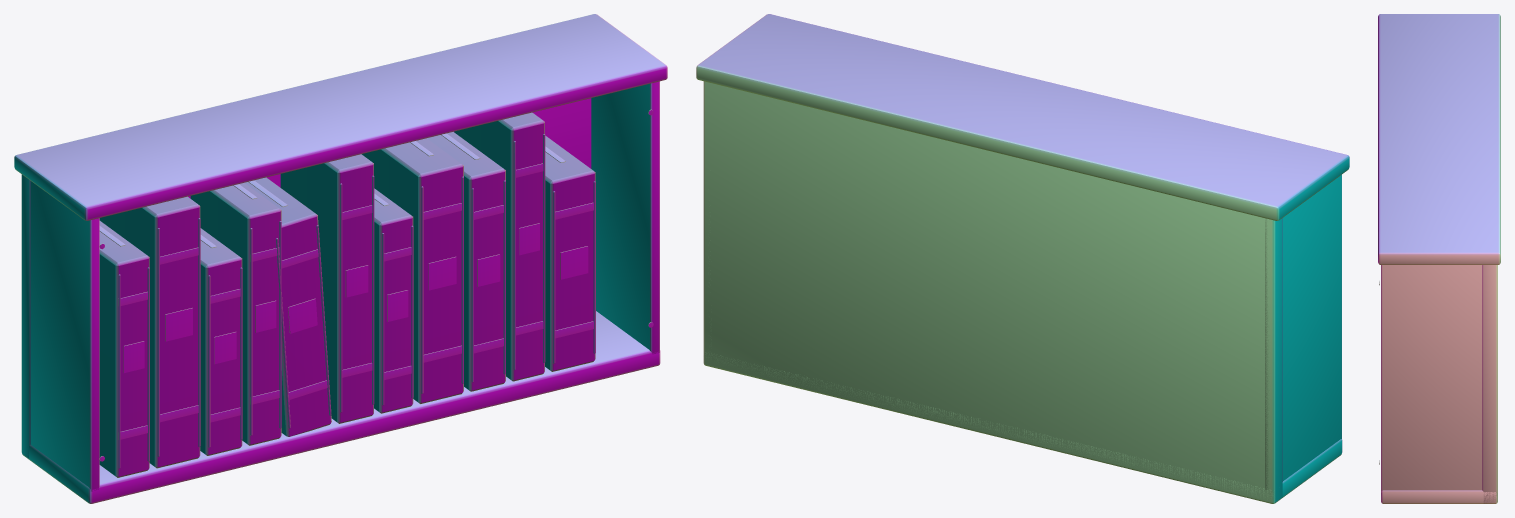
File: env_shelf.glb
3 views of the same model, side by side, from view 1: azimuth 30°, elevation 25°; view 2: azimuth 150°, elevation 25°; view 3: azimuth 270°, elevation 25° (orthographic). The views are drawn at different scales.
Parts seen in each view (by area): view 1: env_shelf_mesh; view 2: env_shelf_mesh; view 3: env_shelf_mesh.
Part boxes in pixels (x1,y1,x2,y2): env_shelf_mesh: (14,14,667,503); env_shelf_mesh: (696,14,1349,503); env_shelf_mesh: (1378,14,1500,503).
Size of the model in its own units: 2.04 by 1 by 0.44.
